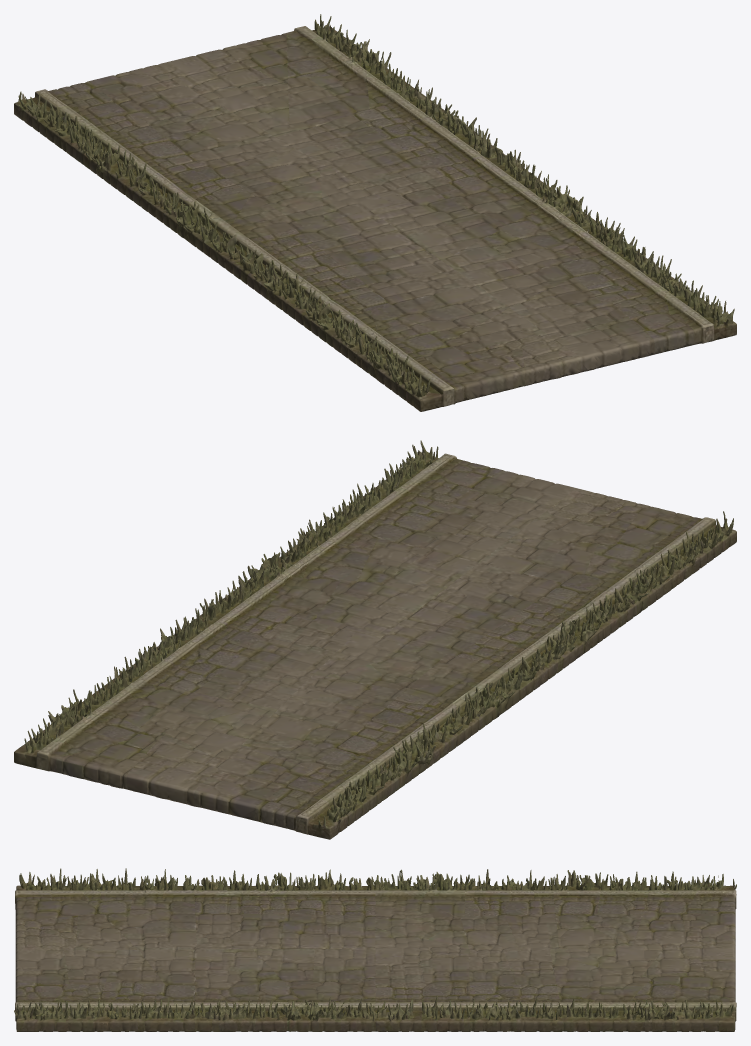
Rendered from Meshy_AI_road_wide_avenue_0823031728_image-to-3d-texture.glb.
3 views of the same model, one above another, from view 1: azimuth 30°, elevation 25°; view 2: azimuth 150°, elevation 25°; view 3: azimuth 270°, elevation 25° (orthographic). The views are drawn at different scales.
Parts seen in each view (by area): view 1: mesh_node; view 2: mesh_node; view 3: mesh_node.
Boxes of the visible parts, x1,y1,x2,y2 form: mesh_node: [14, 14, 736, 411]; mesh_node: [14, 440, 736, 839]; mesh_node: [14, 868, 736, 1031].
Bounding box in the file's own units: 0.8838 × 0.088 × 1.91.
Materials: 1 (1 with a texture image).
